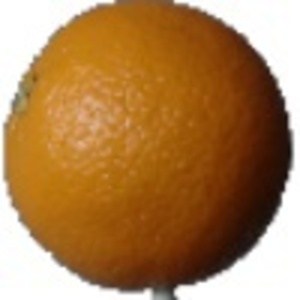laranja: (2, 2, 295, 297)
